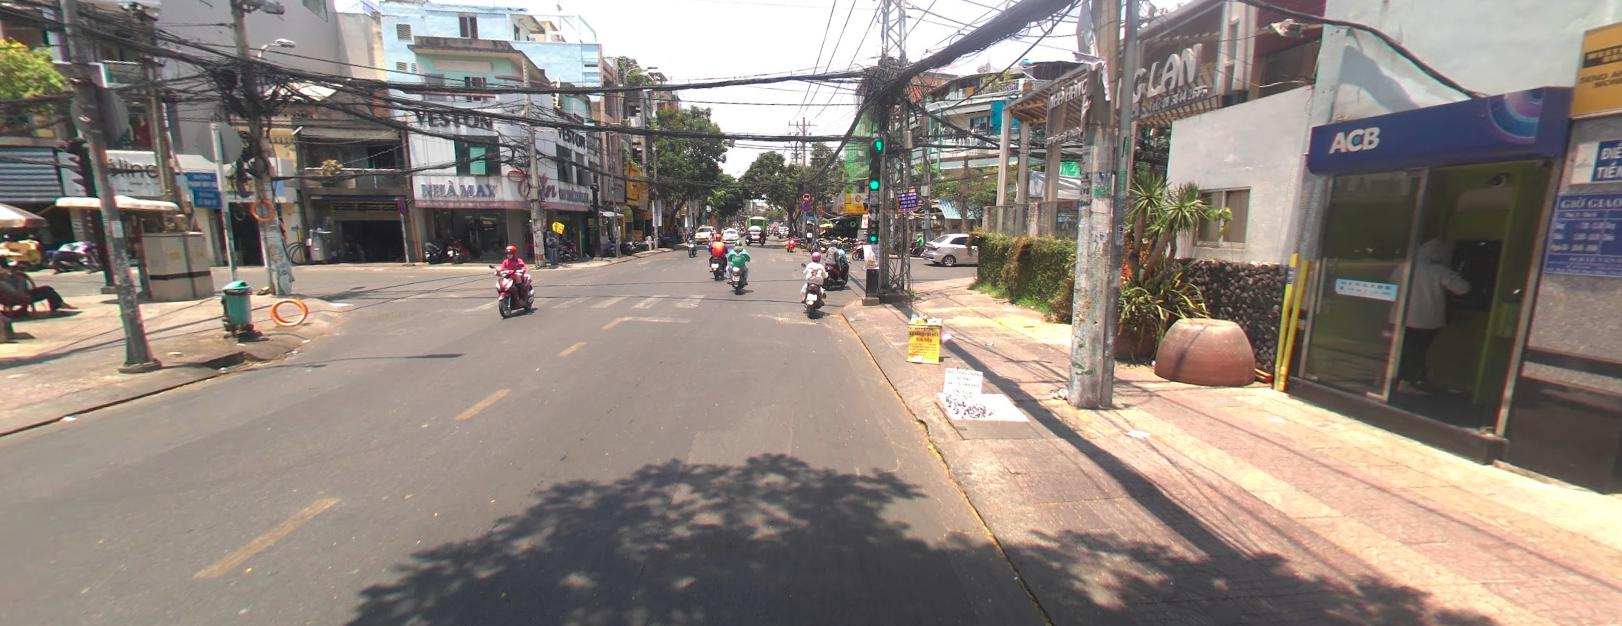Cam con lai: (801, 190, 810, 199), (802, 190, 811, 199)
Cam dung va do: (397, 196, 406, 212), (801, 201, 810, 210), (801, 201, 811, 209)
